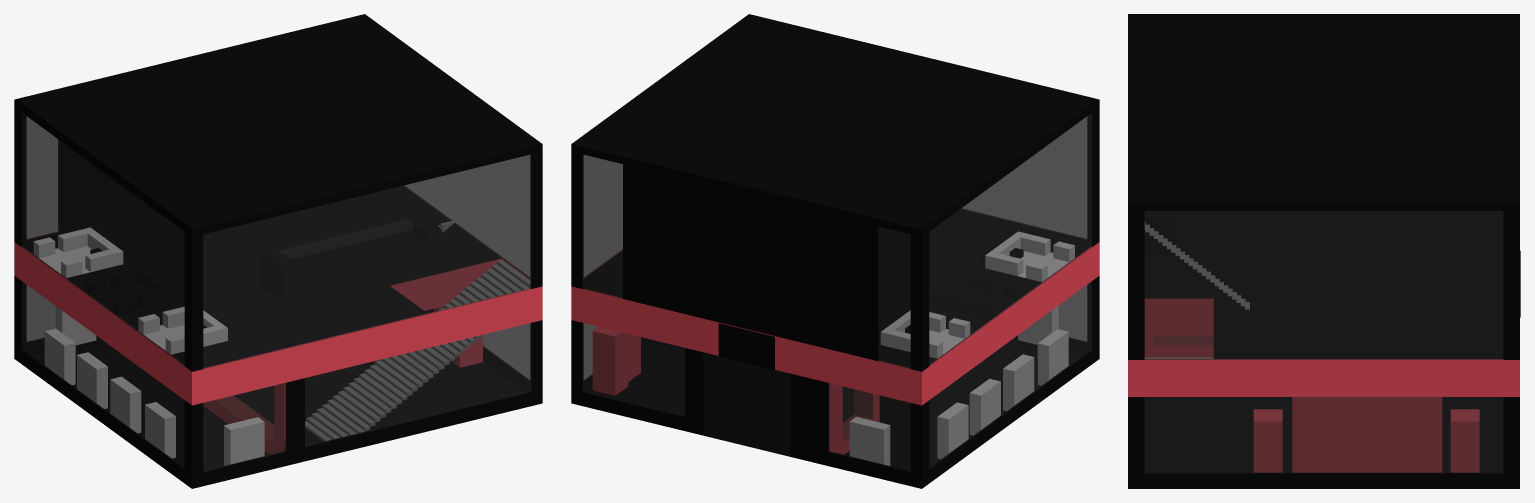
File: Building.glb
3 renders of one model, left to right at view 1: azimuth 30°, elevation 25°; view 2: azimuth 150°, elevation 25°; view 3: azimuth 270°, elevation 25°, orthographic. The views are drawn at different scales.
Parts seen in each view (by area): view 1: Main, sponsor, Stairs, ShopM, ShopR, ShopL, merch1, merch3, merch5, merch2, merch4, merch6; view 2: Main, ShopM, ShopL, InfoL, ShopR, screen, merch6, merch4, merch2, merch5, merch3, RaceTable (+1 smaller); view 3: Main, RaceTable, InfoL, InfoR, sponsor, Stairs1.
Boxes of the visible parts, x1,y1,x2,y2 form: Main: [14, 14, 542, 488]; sponsor: [263, 215, 442, 302]; Stairs: [305, 260, 530, 441]; ShopM: [85, 265, 178, 316]; ShopR: [33, 227, 126, 277]; ShopL: [138, 307, 231, 354]; merch1: [224, 417, 264, 465]; merch3: [110, 376, 141, 435]; merch5: [44, 328, 75, 387]; merch2: [145, 402, 175, 461]; merch4: [77, 352, 107, 411]; merch6: [55, 306, 96, 351]; Main: [571, 14, 1099, 488]; ShopM: [929, 270, 1022, 320]; ShopL: [982, 231, 1074, 281]; InfoL: [592, 327, 628, 395]; ShopR: [879, 310, 970, 358]; screen: [718, 323, 774, 369]; merch6: [849, 417, 890, 465]; merch4: [969, 379, 1000, 437]; merch2: [1037, 329, 1068, 387]; merch5: [937, 402, 968, 461]; merch3: [1003, 354, 1034, 413]; RaceTable: [628, 334, 676, 381]; Main: [1128, 14, 1519, 488]; RaceTable: [1292, 397, 1442, 472]; InfoL: [1450, 409, 1479, 472]; InfoR: [1253, 409, 1282, 472]; sponsor: [1144, 211, 1174, 256]; Stairs1: [1144, 221, 1249, 311].
Size of what is drawn, in the model's own units: 30.81 by 21.86 by 27.1.
Materials: 9 (1 with a texture image).
